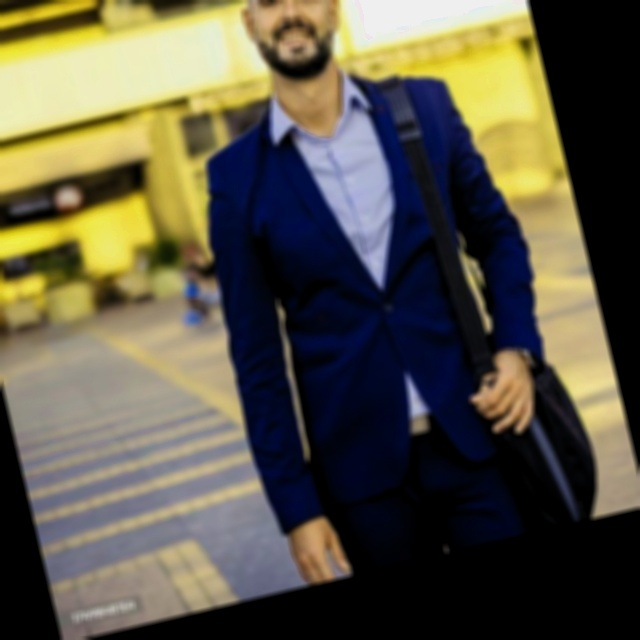Sin_Casco_Mascarrilla: (223, 0, 354, 88)
Sin_Chaleco: (183, 53, 527, 479)
